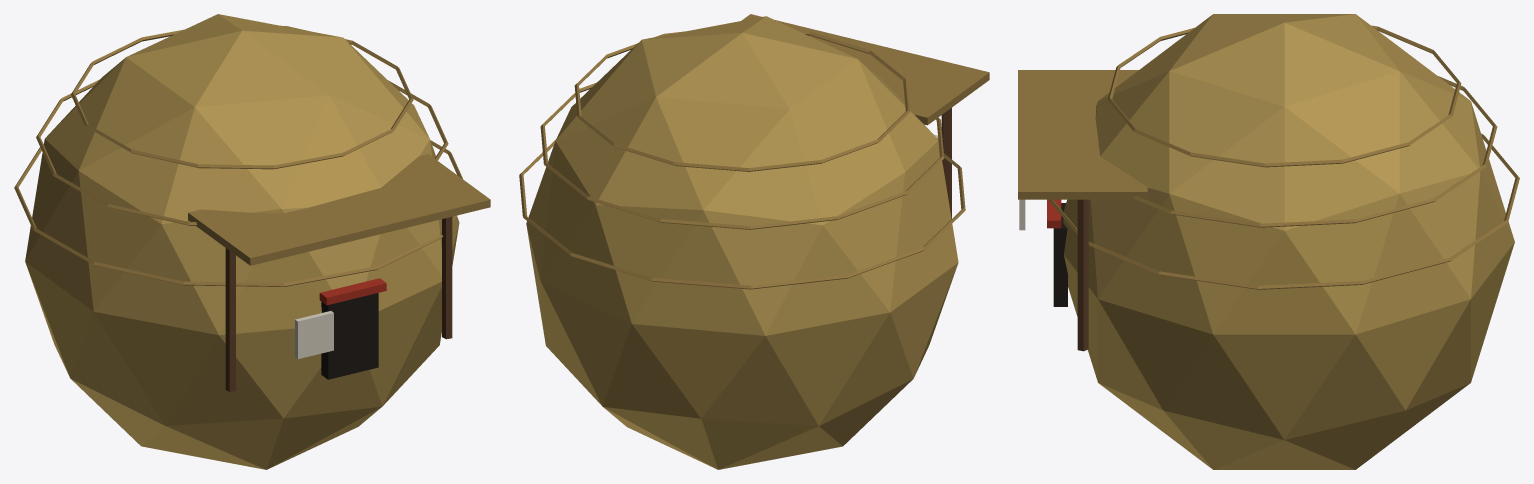
File: elephant_house_c.glb
3 renders of one model, left to right at view 1: azimuth 30°, elevation 25°; view 2: azimuth 150°, elevation 25°; view 3: azimuth 270°, elevation 25°, orthographic. The views are drawn at different scales.
Parts seen in each view (by area): view 1: elephant_house_c; view 2: elephant_house_c; view 3: elephant_house_c.
Part boxes in pixels (box(x1,y1,x2,y2)): elephant_house_c: box(14, 14, 490, 469); elephant_house_c: box(519, 14, 989, 469); elephant_house_c: box(1018, 14, 1519, 469).
Size of the model in its own units: 3.27 by 3.36 by 3.48.
